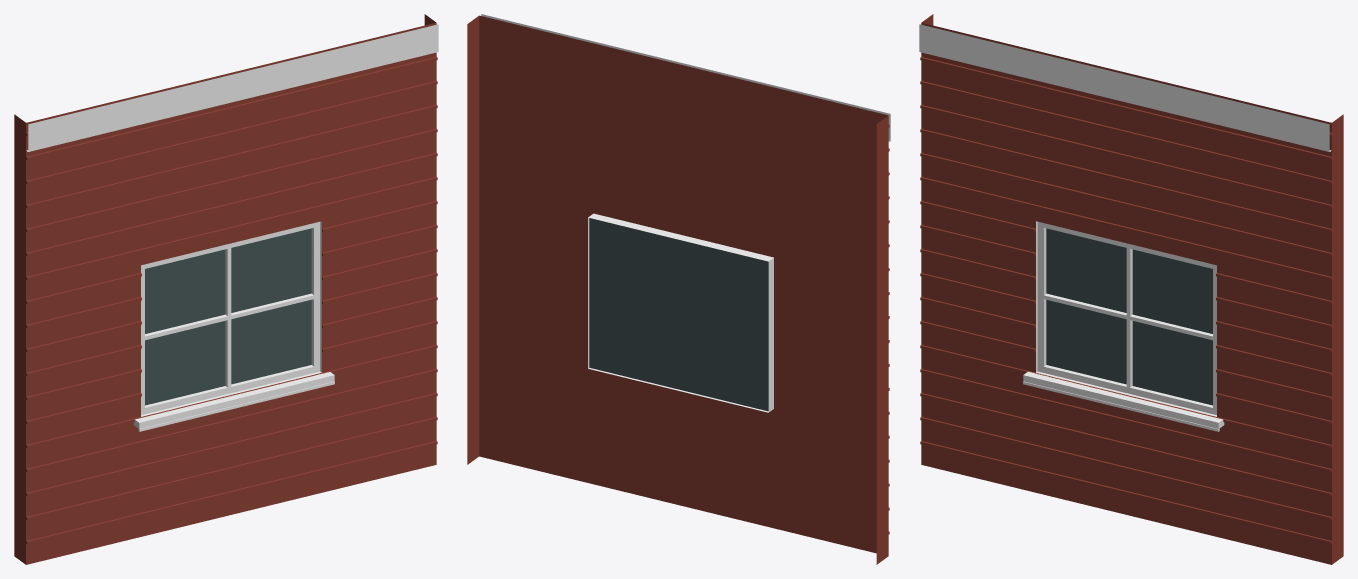
The model's file is mid-stair3_close.fbx.
The picture shows the model from 3 angles, left to right: view 1: azimuth 30°, elevation 25°; view 2: azimuth 150°, elevation 25°; view 3: azimuth 330°, elevation 25°; orthographic projection.
Visible parts, largest first — view 1: a2000/200/mid-stair_close; view 2: a2000/200/mid-stair_close; view 3: a2000/200/mid-stair_close.
Part boxes in pixels (x1,y1,x2,y2): a2000/200/mid-stair_close: (14, 14, 438, 564); a2000/200/mid-stair_close: (467, 14, 890, 564); a2000/200/mid-stair_close: (919, 14, 1343, 564).
Size of the model in its own units: 3.4 by 3.5 by 0.255.
